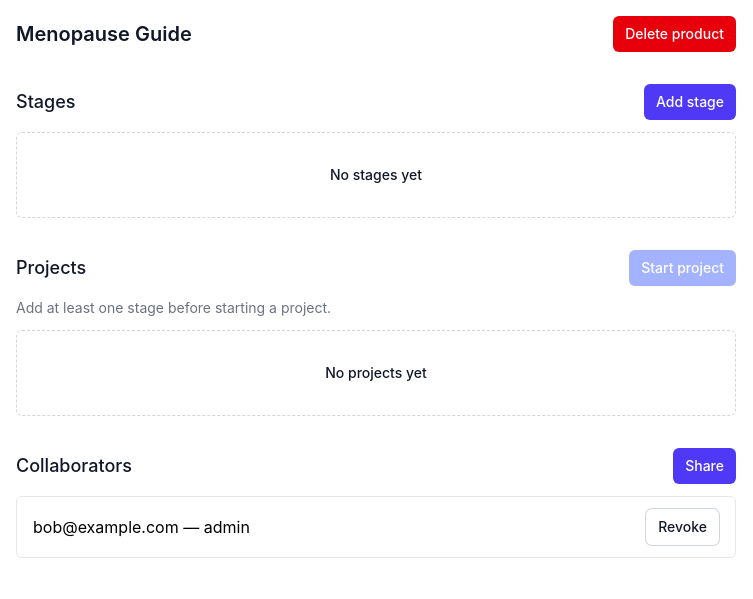
Test: ProductDetailPage › revoking a collaborator removes them from the list immediately (Scenario 14)
Click the button "Revoke" at (683, 527), box [646,509,719,545]
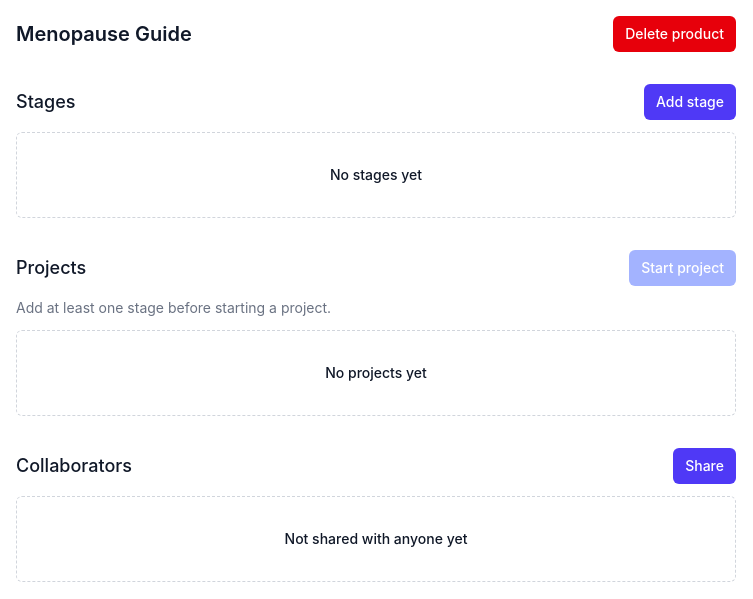
Now the text "bob@example.com" is gone
